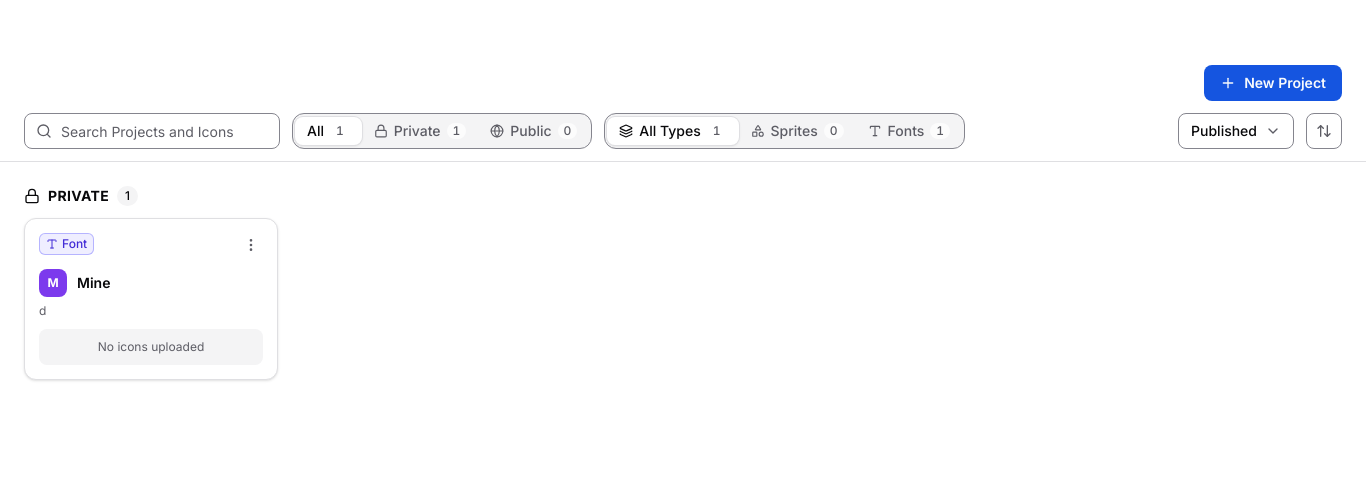
Test case: project actions › duplicates and offers to open the copy
Step 1. Click the button named "Actions for Mine" → (251, 245), box 239,233 -> 263,257
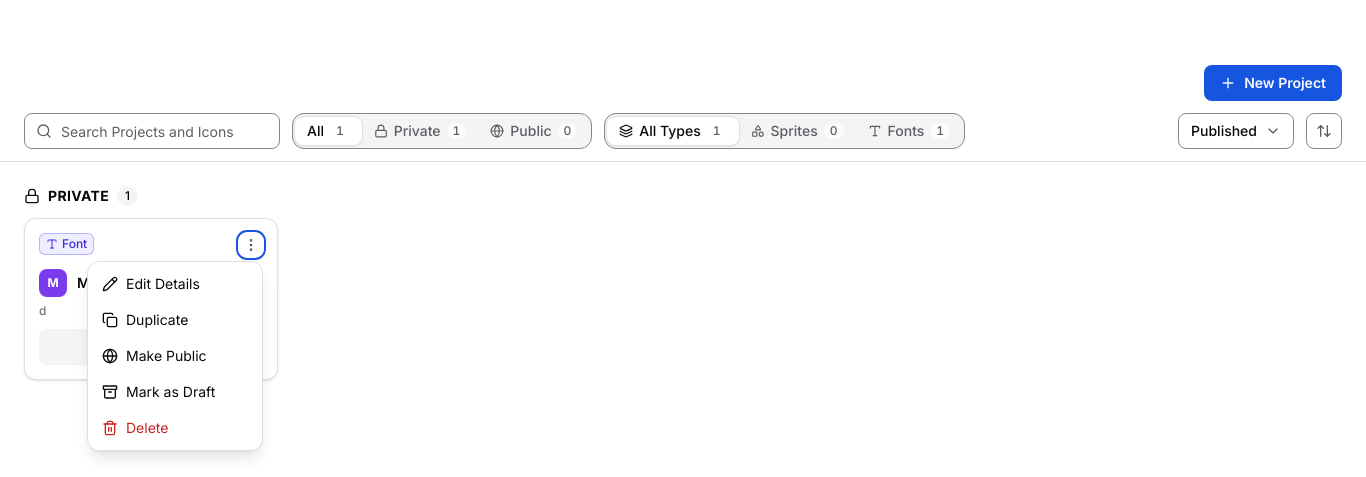
Step 2. Click the menu item "Duplicate" → (175, 320), box 92,302 -> 258,338
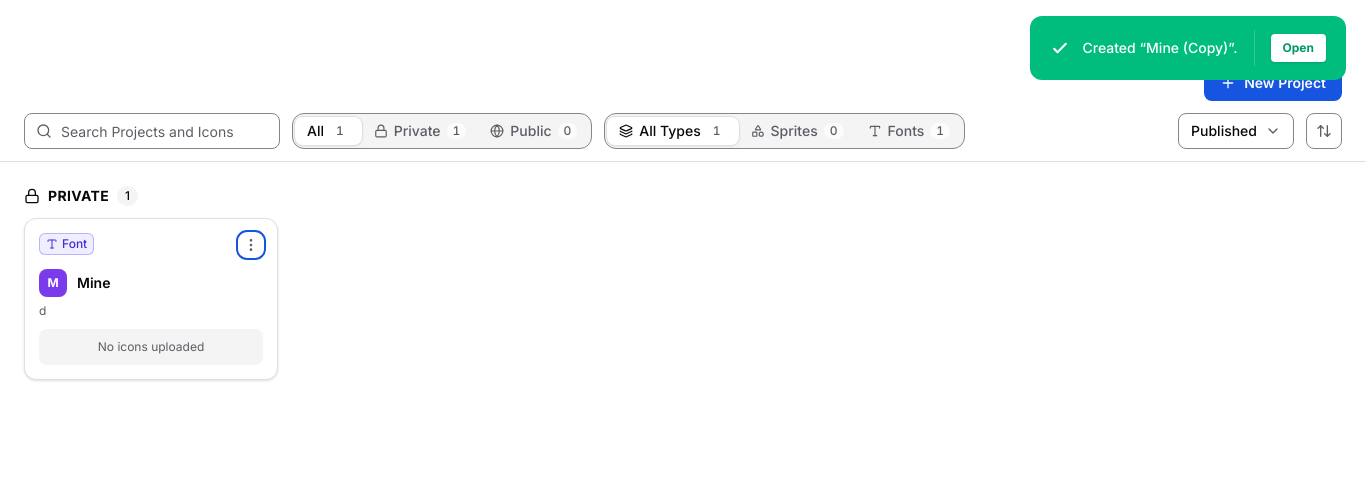
Check: the text "Created “Mine (Copy)”." is shown, box 1082,38 -> 1238,58
